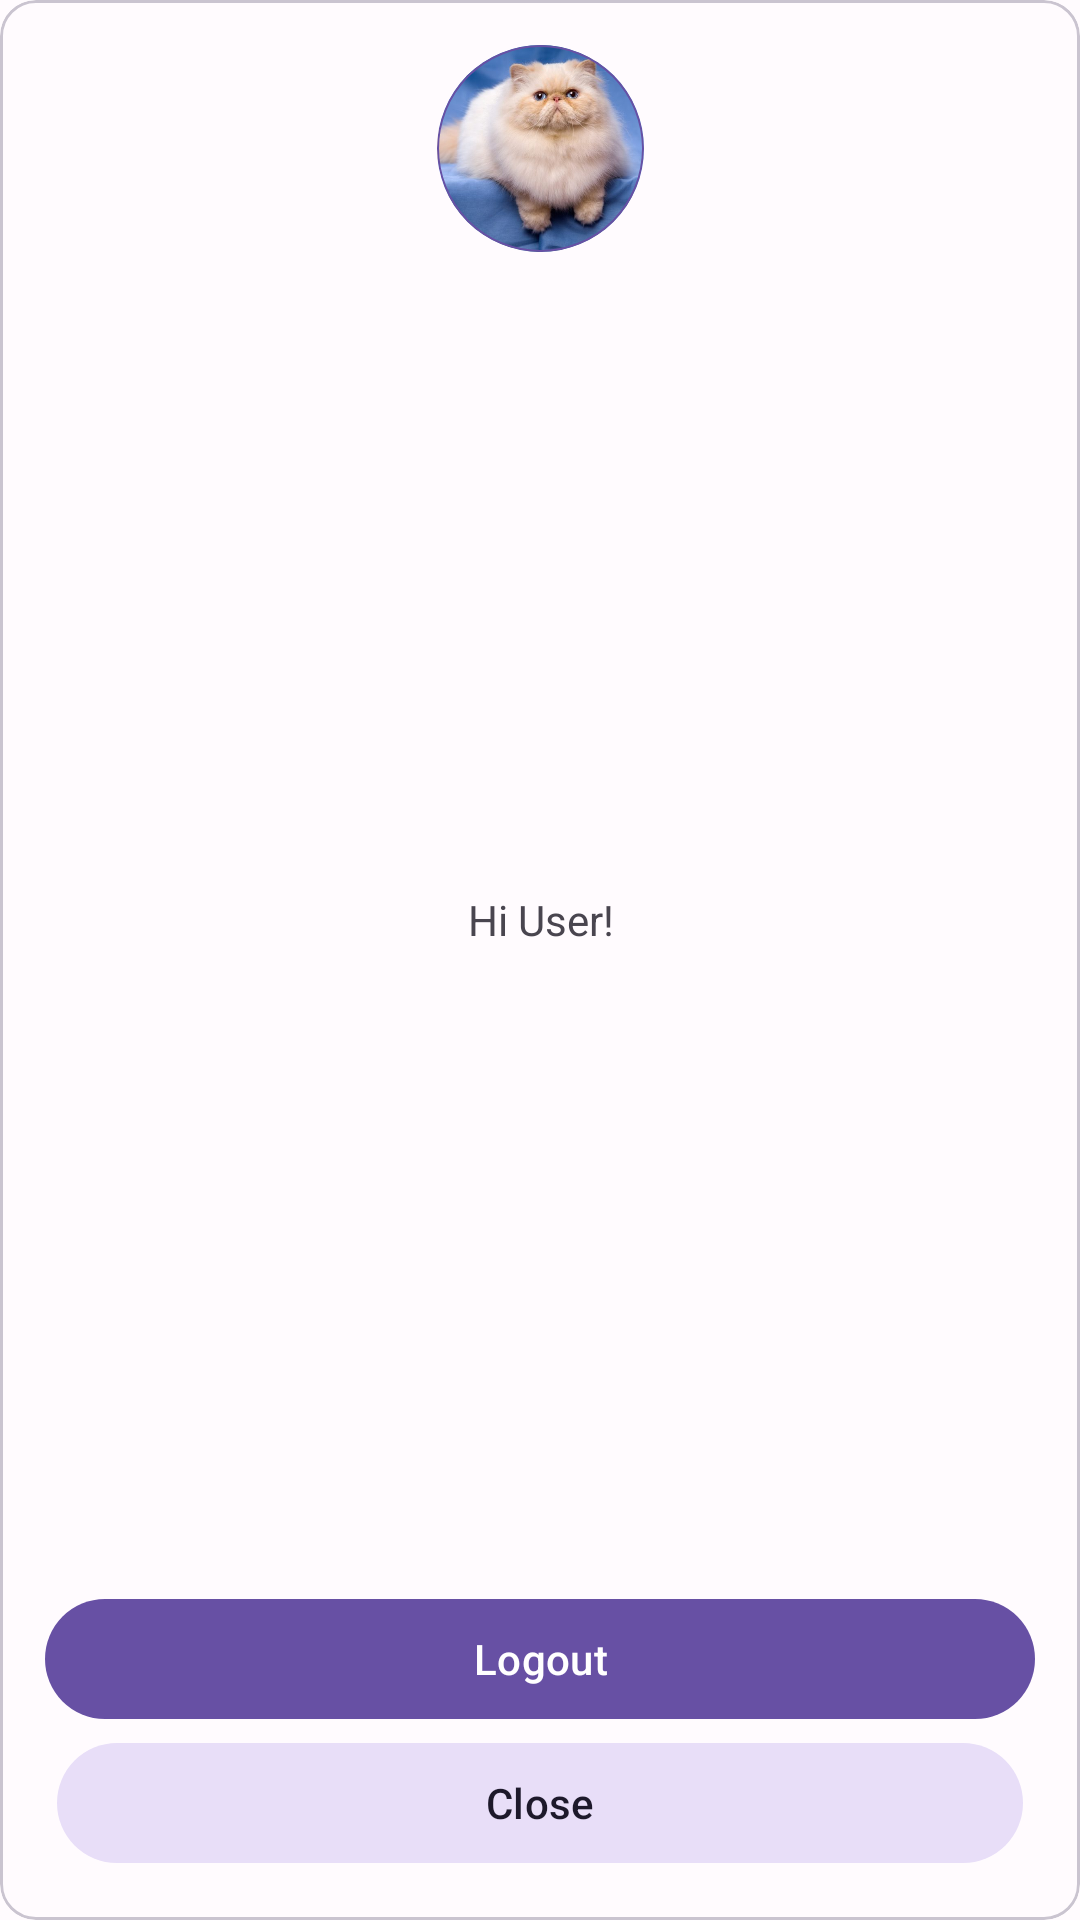

Screen size 1080px x 1920px. Icon name, then its box in pixels as {"left": x1, "top": y1, "right": x2, "bottom": y2}:
persian cat: {"left": 437, "top": 45, "right": 644, "bottom": 252}
